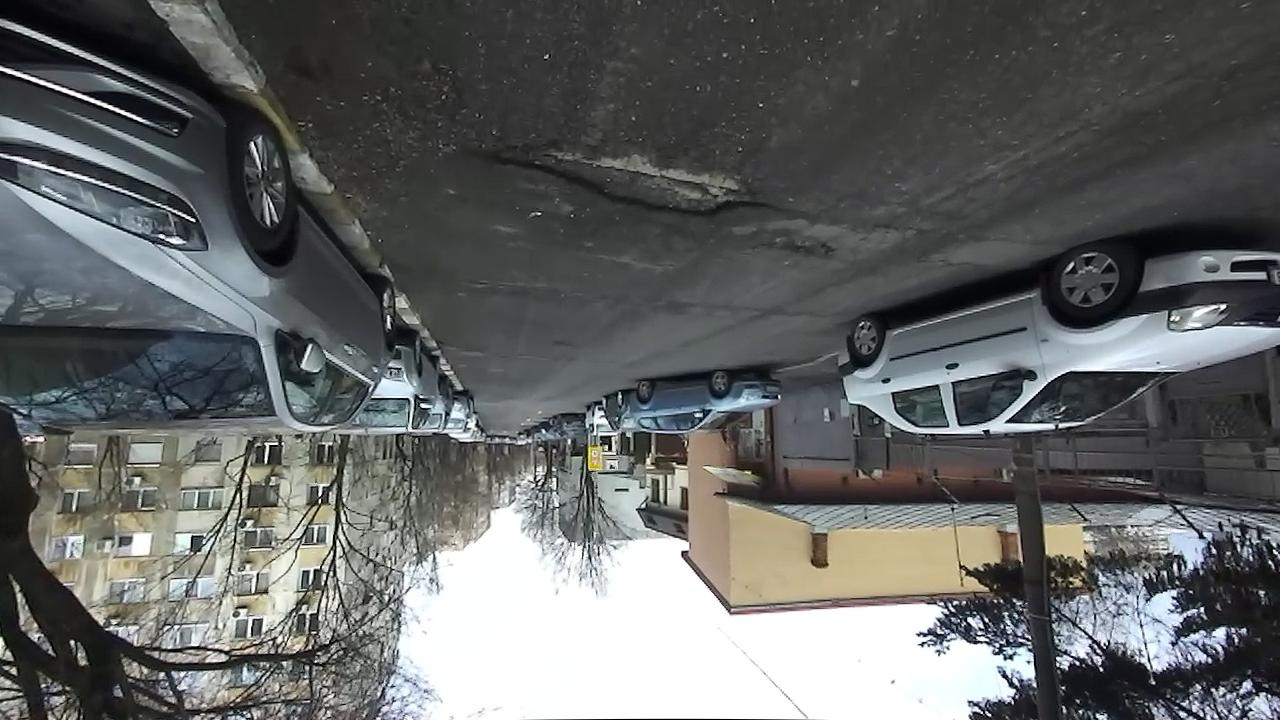pothole: (477, 130, 786, 221), (760, 234, 841, 266)
